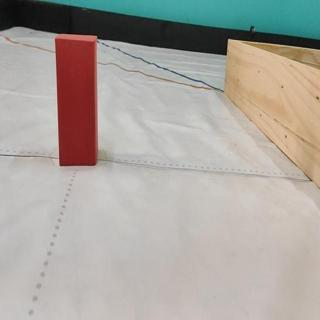redbox: (55, 32, 98, 168)
